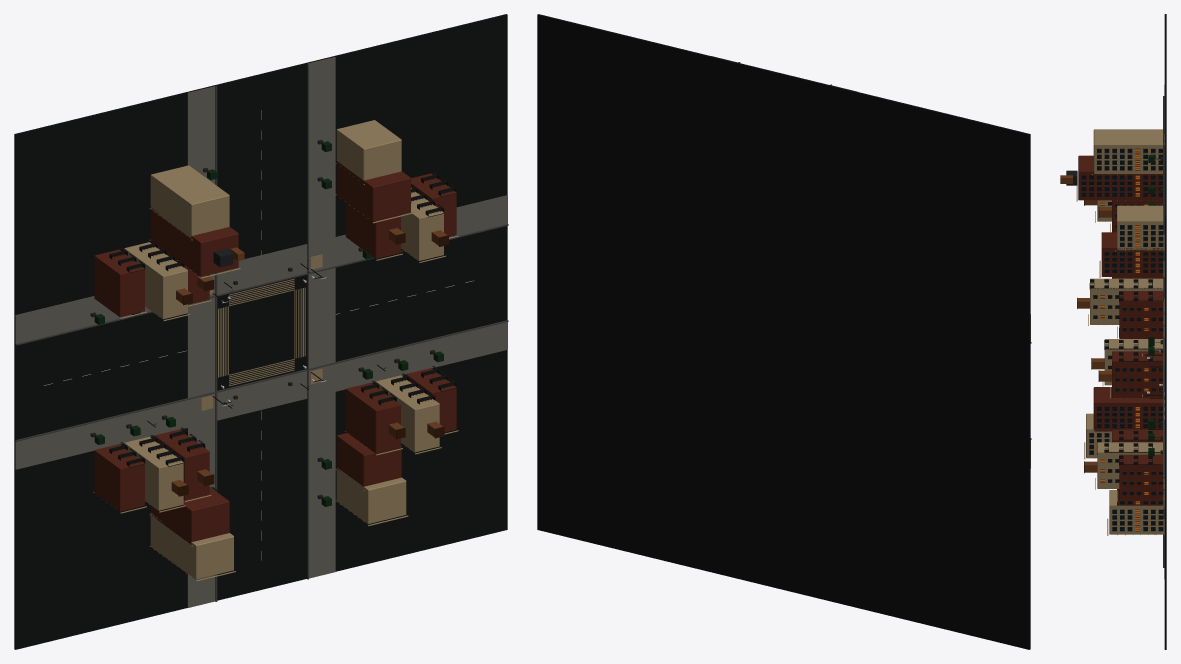
File: residential_intersection.obj
3 renders of one model, left to right at view 1: azimuth 30°, elevation 25°; view 2: azimuth 150°, elevation 25°; view 3: azimuth 270°, elevation 25°, orthographic. The views are drawn at different scales.
Size of the model in its own units: 180 by 180 by 40.
